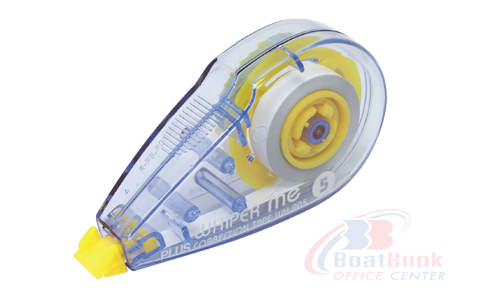Correction_fluid: (69, 14, 391, 282)
